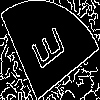E: (24, 25, 66, 77)
